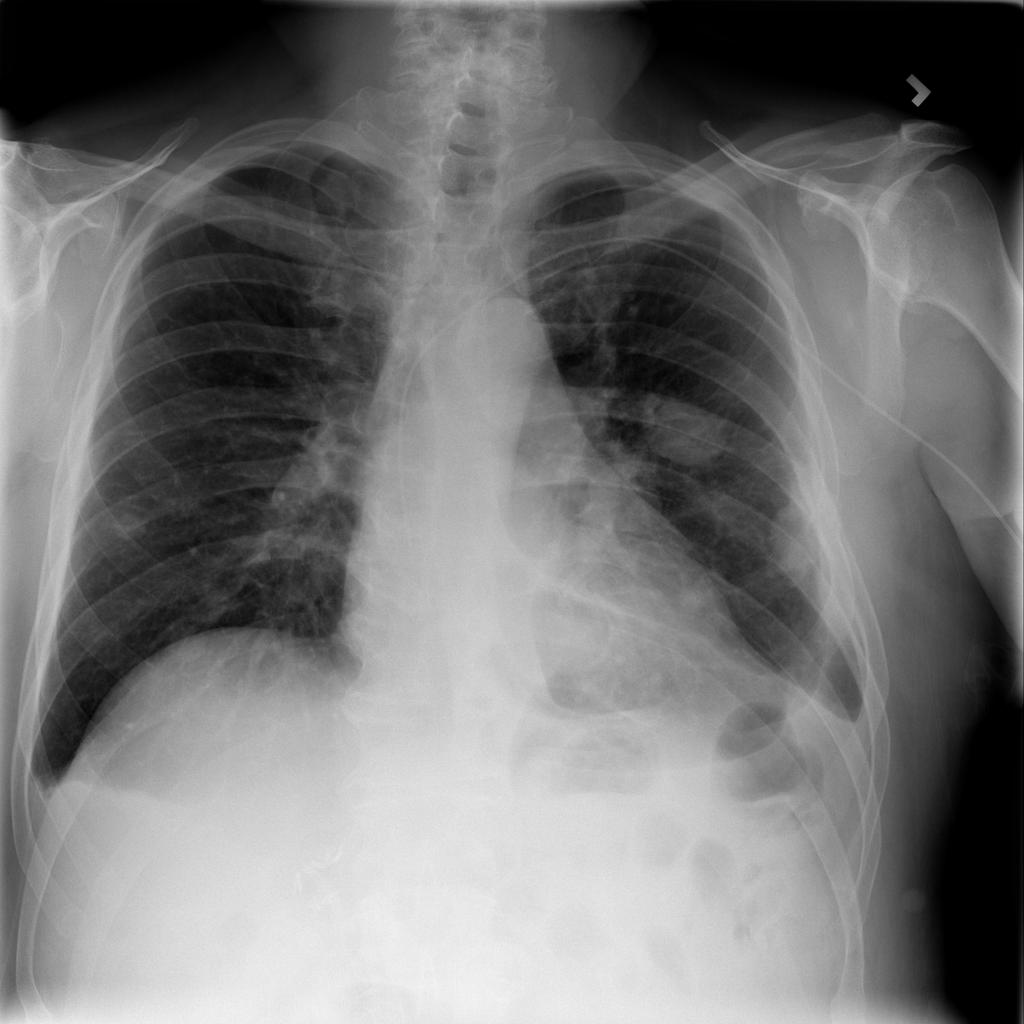nodule: (744, 457, 857, 596), (633, 378, 746, 483), (90, 489, 169, 558)
